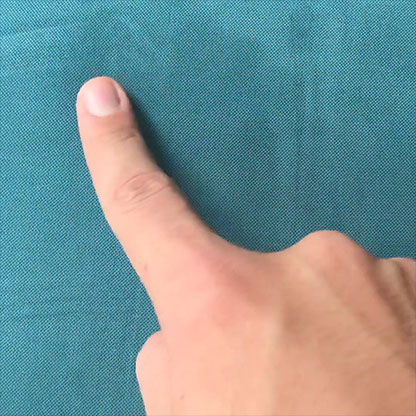fingertip: (60, 63, 147, 130)
